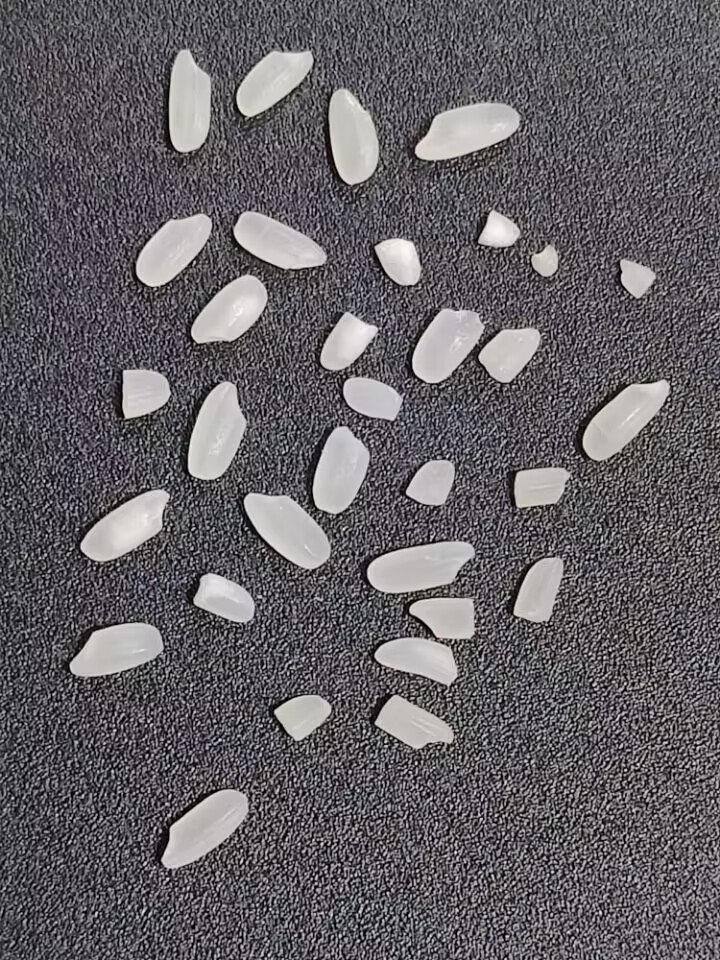broken: (371, 692, 456, 752), (366, 636, 458, 689), (266, 685, 340, 746), (476, 324, 544, 386), (508, 552, 565, 625), (315, 310, 380, 372), (402, 591, 480, 642), (190, 572, 257, 624), (340, 374, 406, 424), (366, 235, 426, 289), (115, 366, 173, 420), (403, 456, 460, 508), (512, 468, 573, 508), (475, 208, 524, 255), (615, 254, 656, 301), (525, 238, 564, 278)
rice: (159, 786, 250, 875), (579, 377, 674, 460), (239, 490, 333, 572), (76, 487, 172, 561), (179, 376, 246, 482), (130, 210, 215, 289), (228, 209, 332, 273), (413, 101, 521, 160), (410, 306, 486, 386), (310, 420, 372, 517), (65, 620, 164, 680), (365, 542, 477, 595), (189, 274, 268, 346), (235, 48, 316, 118), (327, 87, 380, 188), (167, 47, 213, 154)
